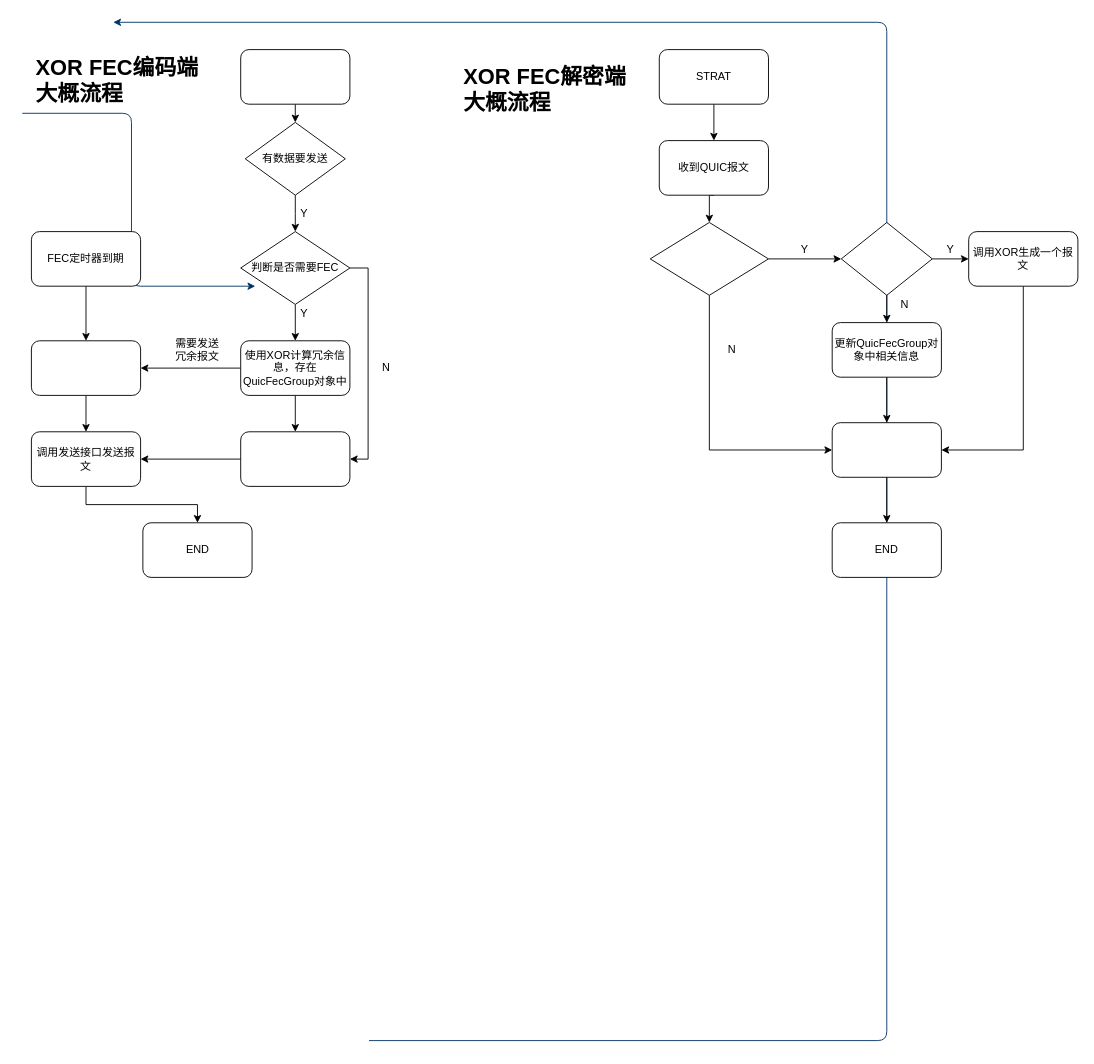
Some shapes in this 1094 by 1064 pixel diagram are drawn without their labels. Here are the shapes that lost their labels. From the top down, the centre of each, then its label:
At (295,76): "START".
At (708,258): "判断是否是FEC报文（FEC组里的原始报文和冗余报文）".
At (886,258): "是否只是丢失一个报文".
At (85,367): "QuicFecGroup对象中获取冗余信息封装成QUIC报文".
At (295,458): "发送原始报文".
At (886,449): "处理QUIC报文".
